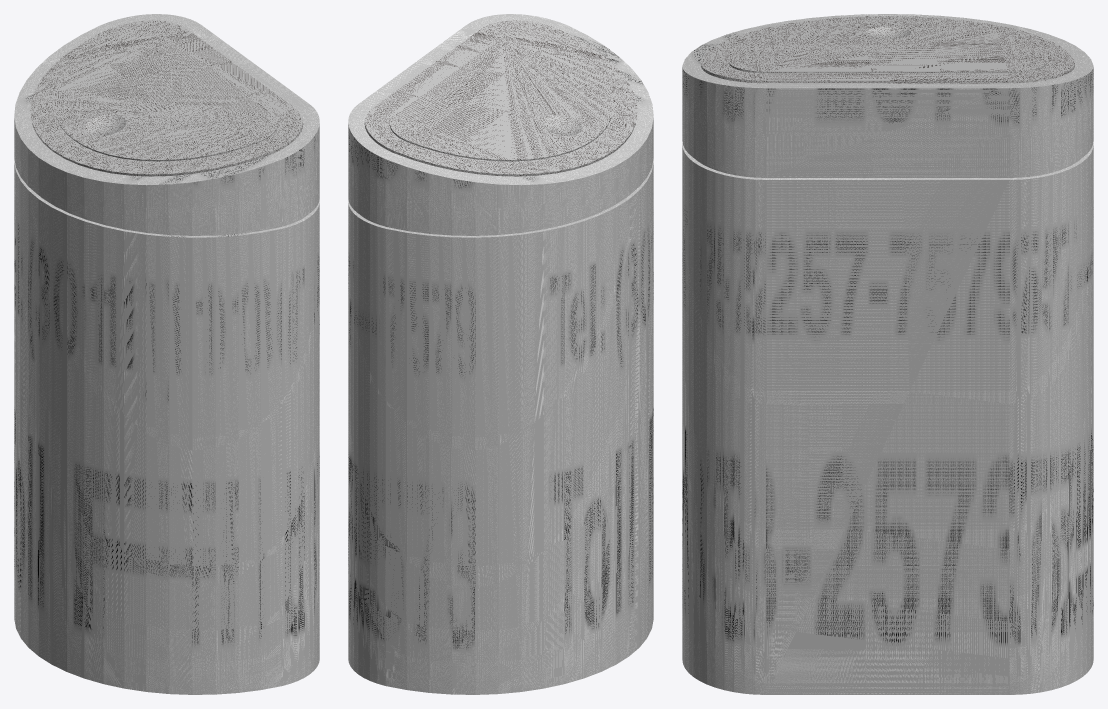
3 renders of one model, left to right at view 1: azimuth 30°, elevation 25°; view 2: azimuth 150°, elevation 25°; view 3: azimuth 270°, elevation 25°, orthographic. The views are drawn at different scales.
Parts seen in each view (by area): view 1: mesh3.001_mesh3-geometry, mesh2.001_mesh2-geometry, mesh1.002_mesh1-geometry; view 2: mesh3.001_mesh3-geometry, mesh2.001_mesh2-geometry, mesh1.002_mesh1-geometry; view 3: mesh3.001_mesh3-geometry, mesh2.001_mesh2-geometry.
Part boxes in pixels (x1=…): mesh3.001_mesh3-geometry: x1=14, y1=159, x2=319, y2=694; mesh2.001_mesh2-geometry: x1=14, y1=14, x2=319, y2=233; mesh1.002_mesh1-geometry: x1=85, y1=114, x2=126, y2=135; mesh3.001_mesh3-geometry: x1=348, y1=159, x2=653, y2=694; mesh2.001_mesh2-geometry: x1=348, y1=14, x2=653, y2=233; mesh1.002_mesh1-geometry: x1=541, y1=114, x2=582, y2=135; mesh3.001_mesh3-geometry: x1=682, y1=143, x2=1093, y2=694; mesh2.001_mesh2-geometry: x1=682, y1=14, x2=1093, y2=175.
Bounding box in the file's own units: 0.3382 × 0.8018 × 0.4927.
